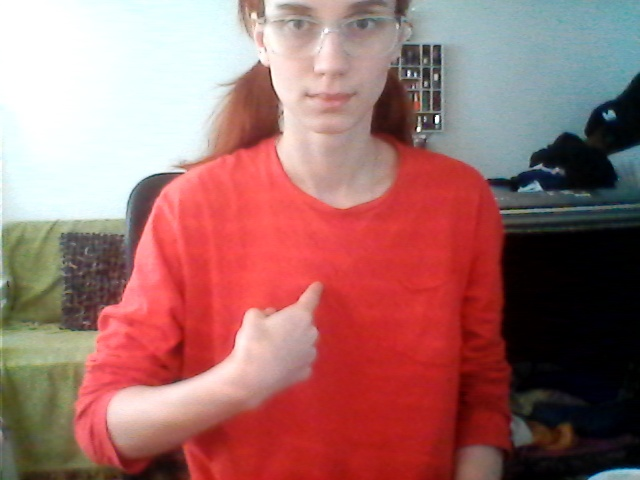ja: (221, 271, 360, 413)
